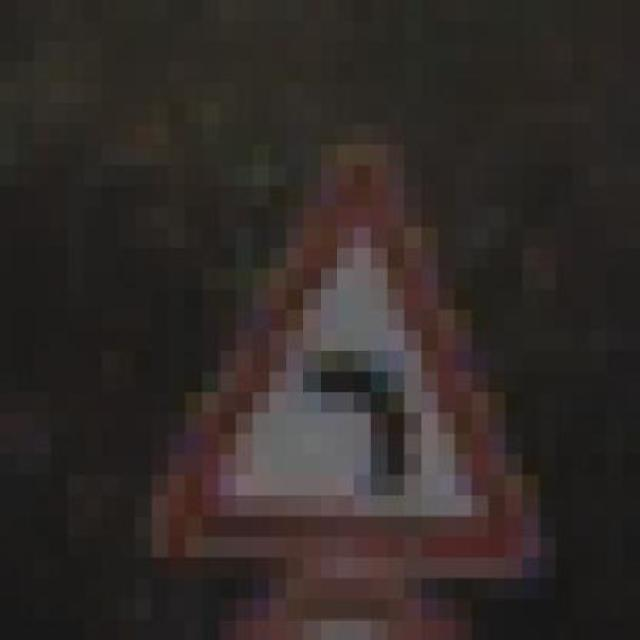Dangerous Left Curve Ahead: (117, 112, 572, 586)
